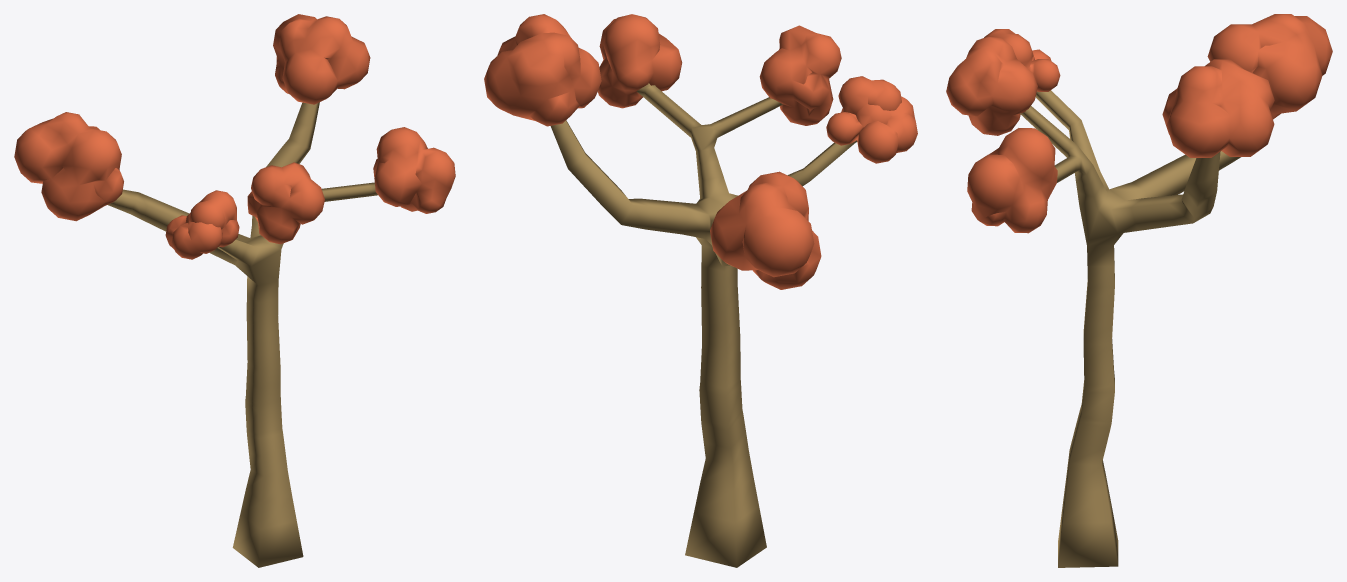
The model's file is autumn_tree.fbx_Scene.fbx.
3 renders of one model, left to right at view 1: azimuth 30°, elevation 25°; view 2: azimuth 150°, elevation 25°; view 3: azimuth 270°, elevation 25°, orthographic. The views are drawn at different scales.
Visible parts, largest first — view 1: Cube, Icosphere, Icosphere.001, Icosphere.003, Icosphere.002, Icosphere.004; view 2: Cube, Icosphere, Icosphere.001, Icosphere.002, Icosphere.003, Icosphere.004; view 3: Cube, Icosphere.001, Icosphere, Icosphere.003, Icosphere.002, Icosphere.004.
Part boxes in pixels (x1,y1,x2,y2): Cube: [108, 102, 377, 567]; Icosphere: [14, 112, 123, 221]; Icosphere.001: [273, 14, 370, 104]; Icosphere.003: [373, 127, 455, 213]; Icosphere.002: [247, 162, 324, 244]; Icosphere.004: [165, 190, 239, 259]; Cube: [550, 83, 857, 567]; Icosphere: [710, 171, 821, 289]; Icosphere.001: [484, 14, 601, 126]; Icosphere.002: [759, 25, 841, 125]; Icosphere.003: [598, 14, 682, 108]; Icosphere.004: [826, 76, 917, 163]; Cube: [1020, 90, 1240, 567]; Icosphere.001: [1162, 59, 1274, 157]; Icosphere: [1207, 14, 1332, 119]; Icosphere.003: [967, 128, 1057, 233]; Icosphere.002: [946, 36, 1037, 135]; Icosphere.004: [984, 29, 1060, 91].
Bounding box in the file's own units: 607 × 894 × 569.
Materials: 2 (2 with a texture image).
